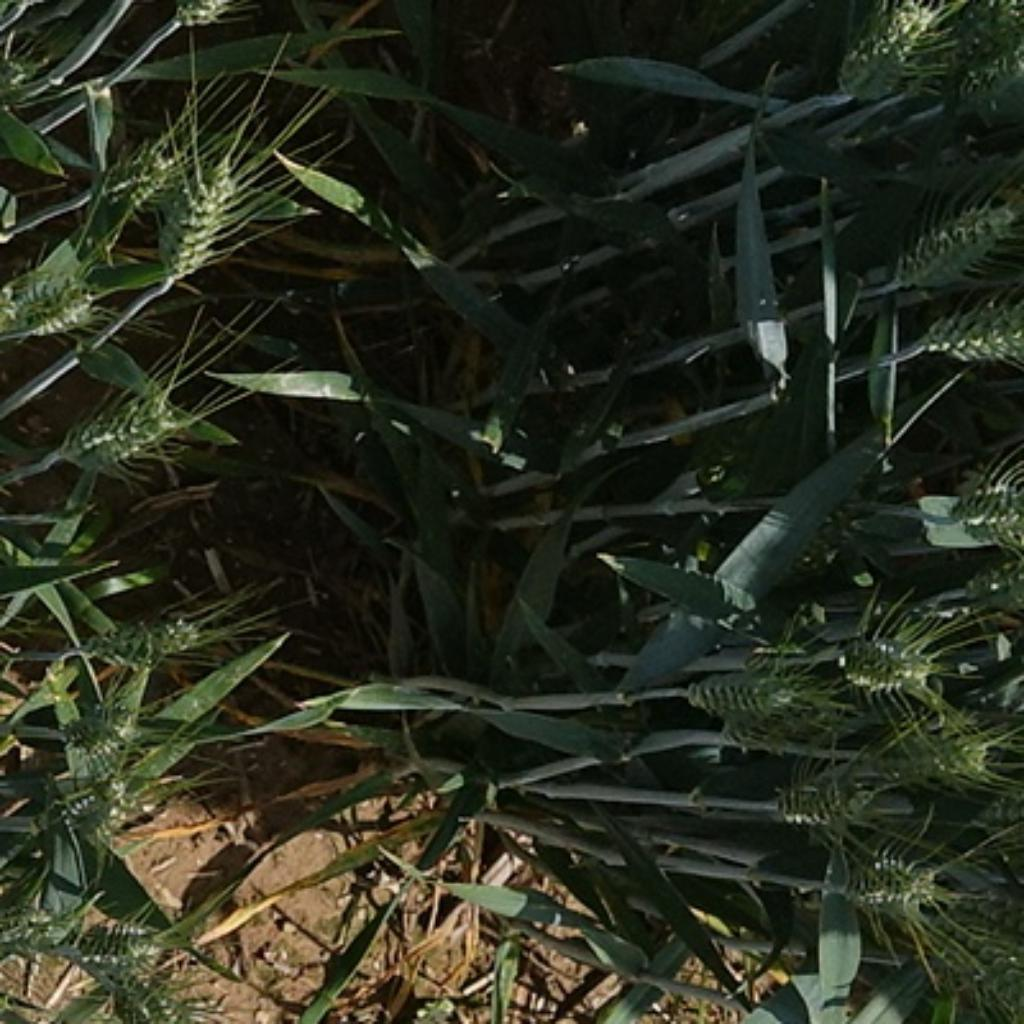0-0: (697, 686, 853, 765), (841, 0, 954, 107), (158, 151, 238, 297), (888, 197, 1008, 289), (63, 389, 187, 472), (678, 658, 811, 735), (110, 107, 207, 212), (71, 604, 217, 673), (857, 715, 1003, 784), (773, 752, 888, 834), (829, 619, 936, 698), (839, 842, 942, 924), (53, 780, 166, 852), (949, 455, 1023, 558), (921, 297, 1024, 369), (18, 266, 111, 342), (104, 952, 202, 1024), (62, 917, 167, 976), (71, 688, 143, 768)
